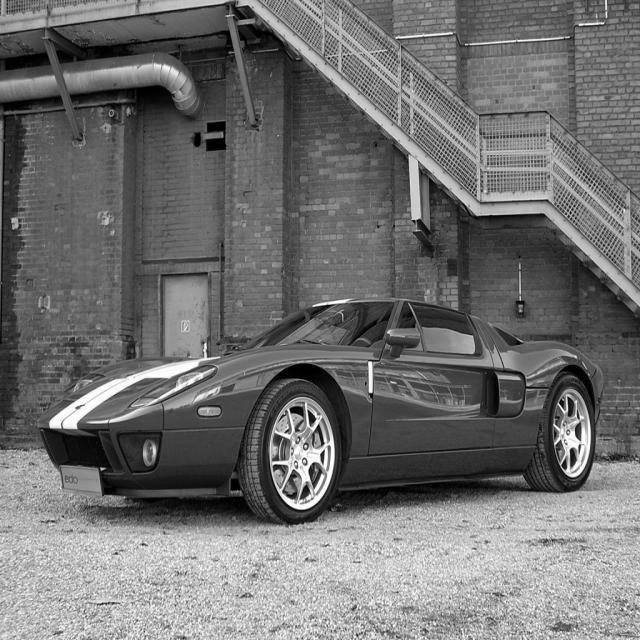Sedan: (36, 299, 608, 527)
